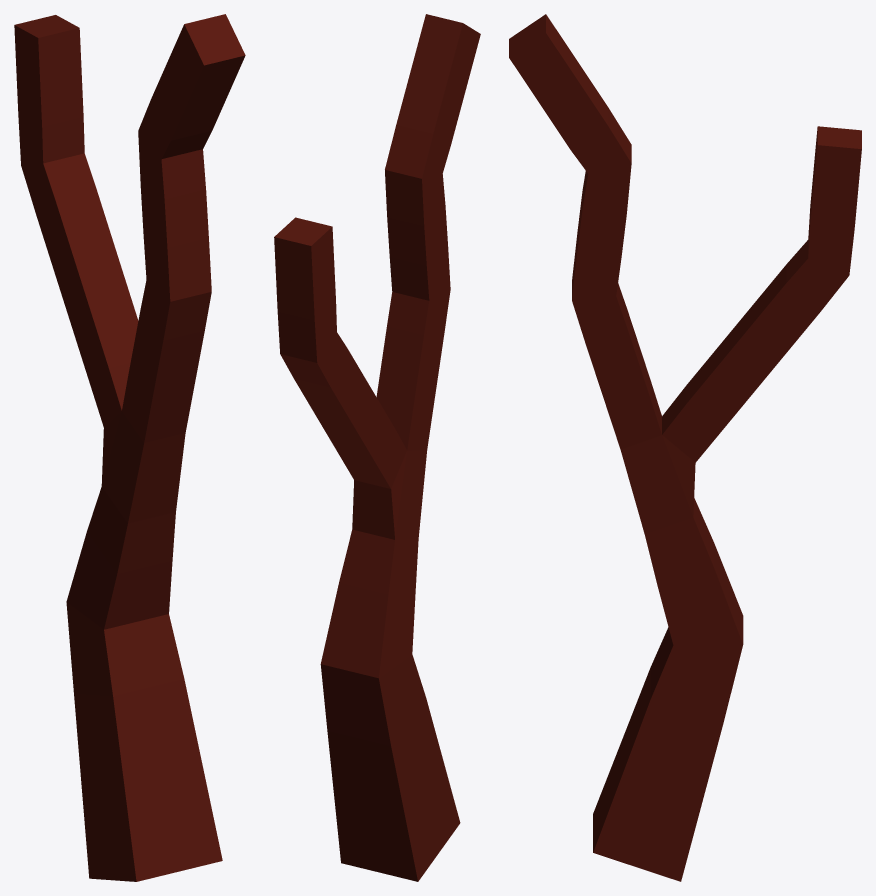
Rendered from Trunk1_low.fbx.
3 views of the same model, side by side, from view 1: azimuth 30°, elevation 25°; view 2: azimuth 150°, elevation 25°; view 3: azimuth 270°, elevation 25° (orthographic). The views are drawn at different scales.
Visible parts, largest first — view 1: Trunk.004; view 2: Trunk.004; view 3: Trunk.004.
Part boxes in pixels (bbox=[...]): Trunk.004: bbox=[14, 14, 245, 881]; Trunk.004: bbox=[274, 14, 480, 881]; Trunk.004: bbox=[509, 14, 861, 881].
Bounding box in the file's own units: 8.36 × 83.59 × 31.87.
